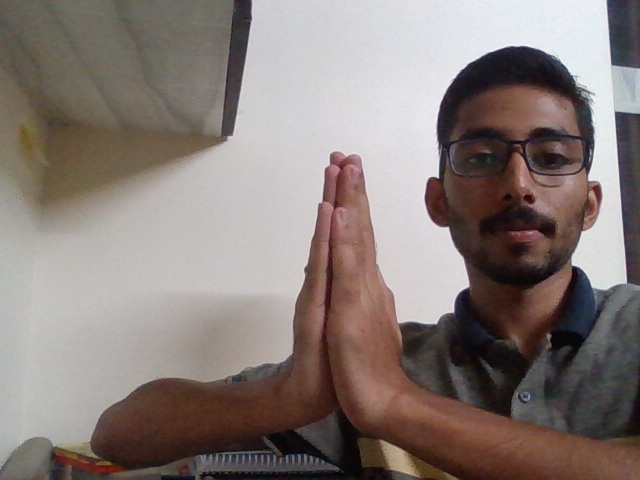Thank You: (257, 136, 437, 444)
